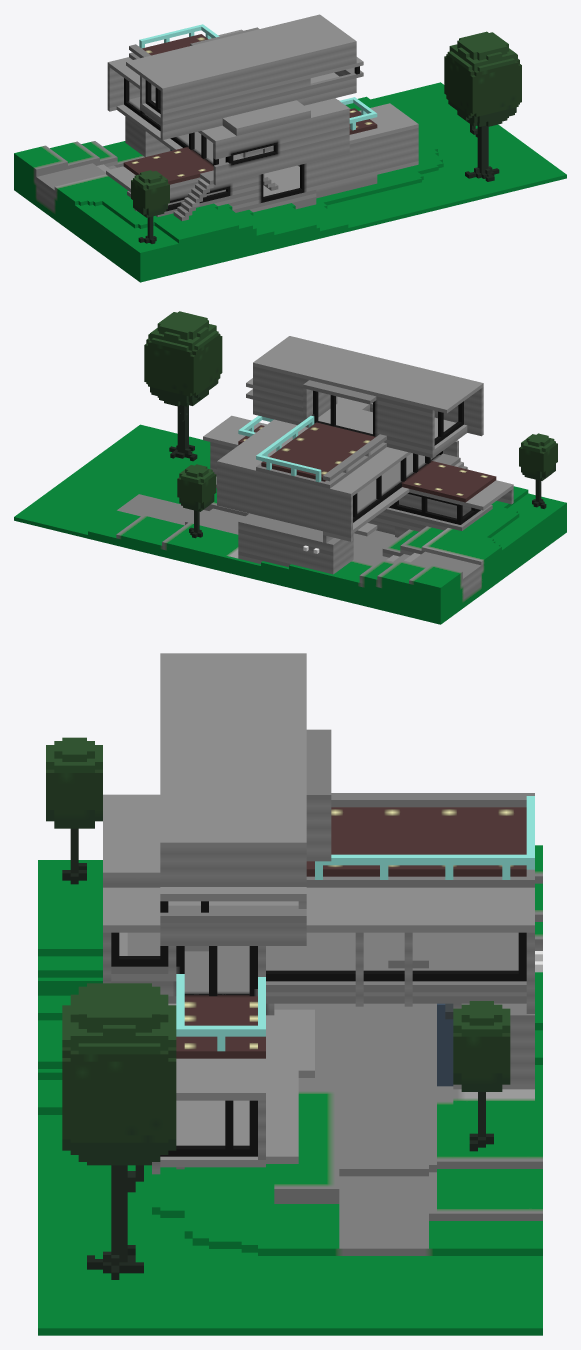
3 views of the same model, one above another, from view 1: azimuth 30°, elevation 25°; view 2: azimuth 150°, elevation 25°; view 3: azimuth 270°, elevation 25° (orthographic). The views are drawn at different scales.
Visible parts, largest first — view 1: BaseFloor, Sphere_5, Sphere_4; view 2: BaseFloor, Sphere_5, Sphere_4, Sphere_6; view 3: BaseFloor, Sphere_5, Sphere_6, Sphere_4.
Part boxes in pixels (x1,y1,x2,y2): BaseFloor: (14,14,566,282); Sphere_5: (444,31,521,181); Sphere_4: (131,170,169,243); BaseFloor: (14,336,566,624); Sphere_5: (144,311,222,461); Sphere_4: (519,433,557,508); Sphere_6: (177,464,216,538); BaseFloor: (38,653,542,1335); Sphere_5: (62,983,176,1279); Sphere_6: (453,1001,510,1151); Sphere_4: (46,737,102,884).
Bounding box in the file's own units: 121 × 43 × 62.
